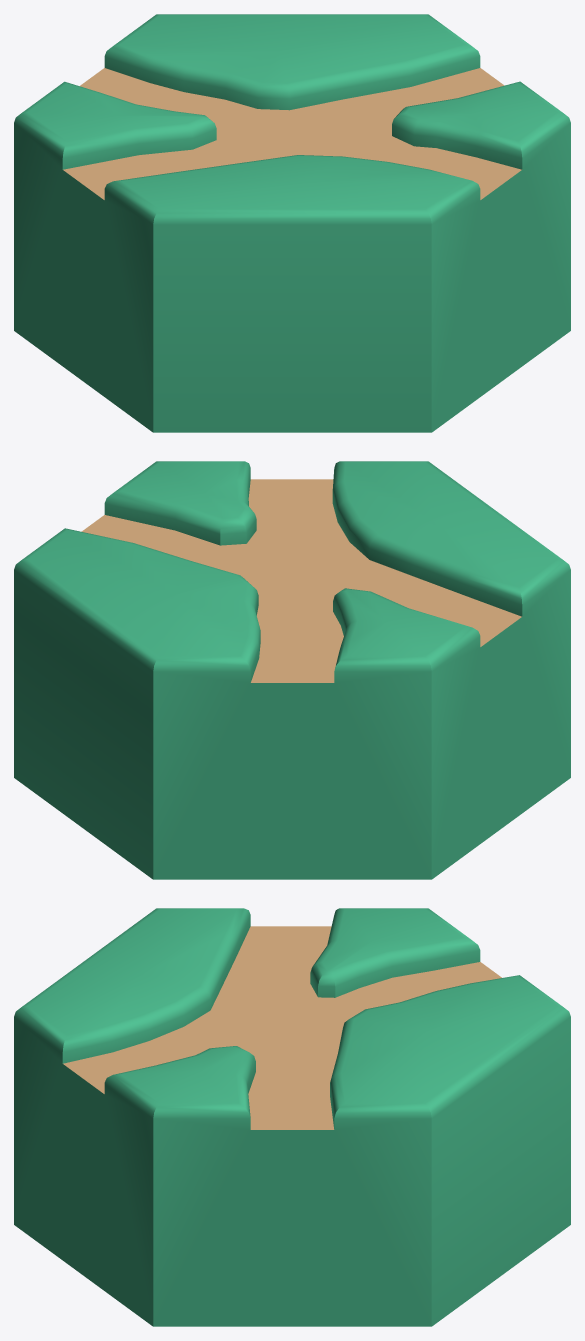
Rendered from hex_forest_roadJ.glb.
The picture shows the model from 3 angles, top to bottom: view 1: azimuth 30°, elevation 25°; view 2: azimuth 150°, elevation 25°; view 3: azimuth 270°, elevation 25°; orthographic projection.
Parts seen in each view (by area): view 1: hex_forest_roadJ; view 2: hex_forest_roadJ; view 3: hex_forest_roadJ.
Part boxes in pixels (<box>): hex_forest_roadJ: <box>14,14,570,432</box>; hex_forest_roadJ: <box>14,461,570,879</box>; hex_forest_roadJ: <box>14,908,570,1326</box>.
Bounding box in the file's own units: 2 × 1 × 2.31.
